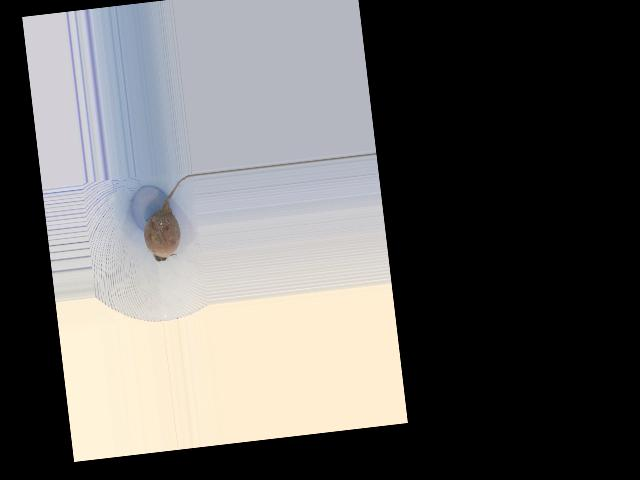beet: (138, 174, 203, 263)
